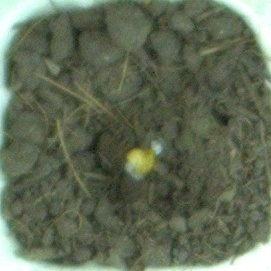chilli seed: (125, 147, 156, 175)
